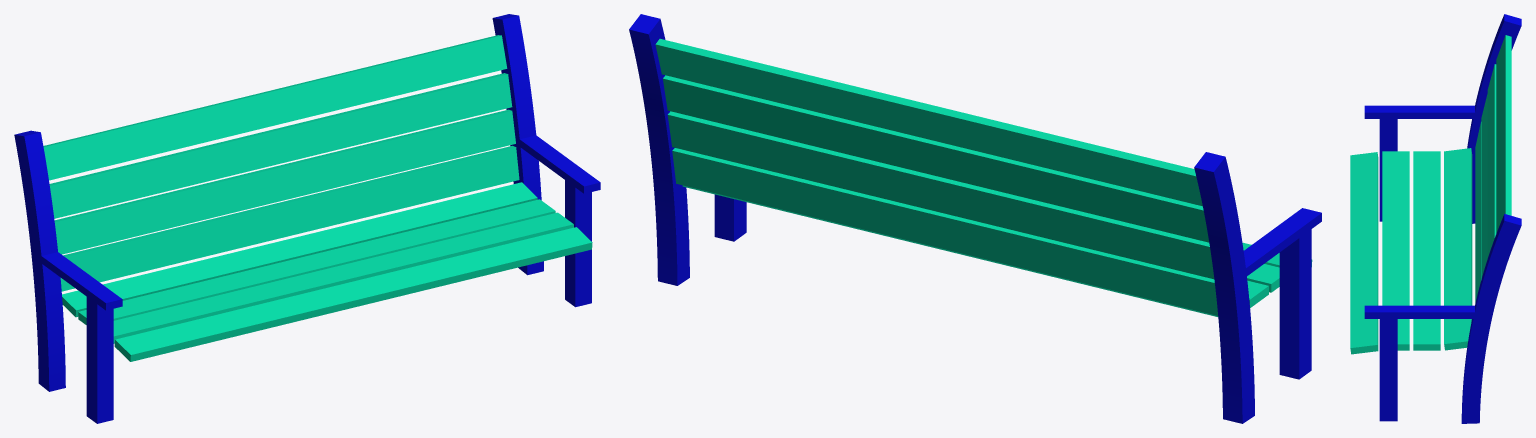
The model's file is Bench 1.fbx.
3 views of the same model, side by side, from view 1: azimuth 30°, elevation 25°; view 2: azimuth 150°, elevation 25°; view 3: azimuth 270°, elevation 25° (orthographic). The views are drawn at different scales.
Parts seen in each view (by area): view 1: BackSeat, Seats, Handles; view 2: BackSeat, Handles, Seats; view 3: Seats, Handles, BackSeat.
Part boxes in pixels (x1,y1,x2,y2): BackSeat: [43, 35, 519, 291]; Seats: [62, 182, 592, 361]; Handles: [14, 14, 600, 423]; BackSeat: [655, 38, 1217, 315]; Handles: [629, 14, 1321, 423]; Seats: [682, 185, 1312, 316]; Seats: [1350, 148, 1472, 354]; Handles: [1364, 14, 1521, 423]; BackSeat: [1475, 35, 1511, 302].
Bounding box in the file's own units: 174 × 79.98 × 61.07.
